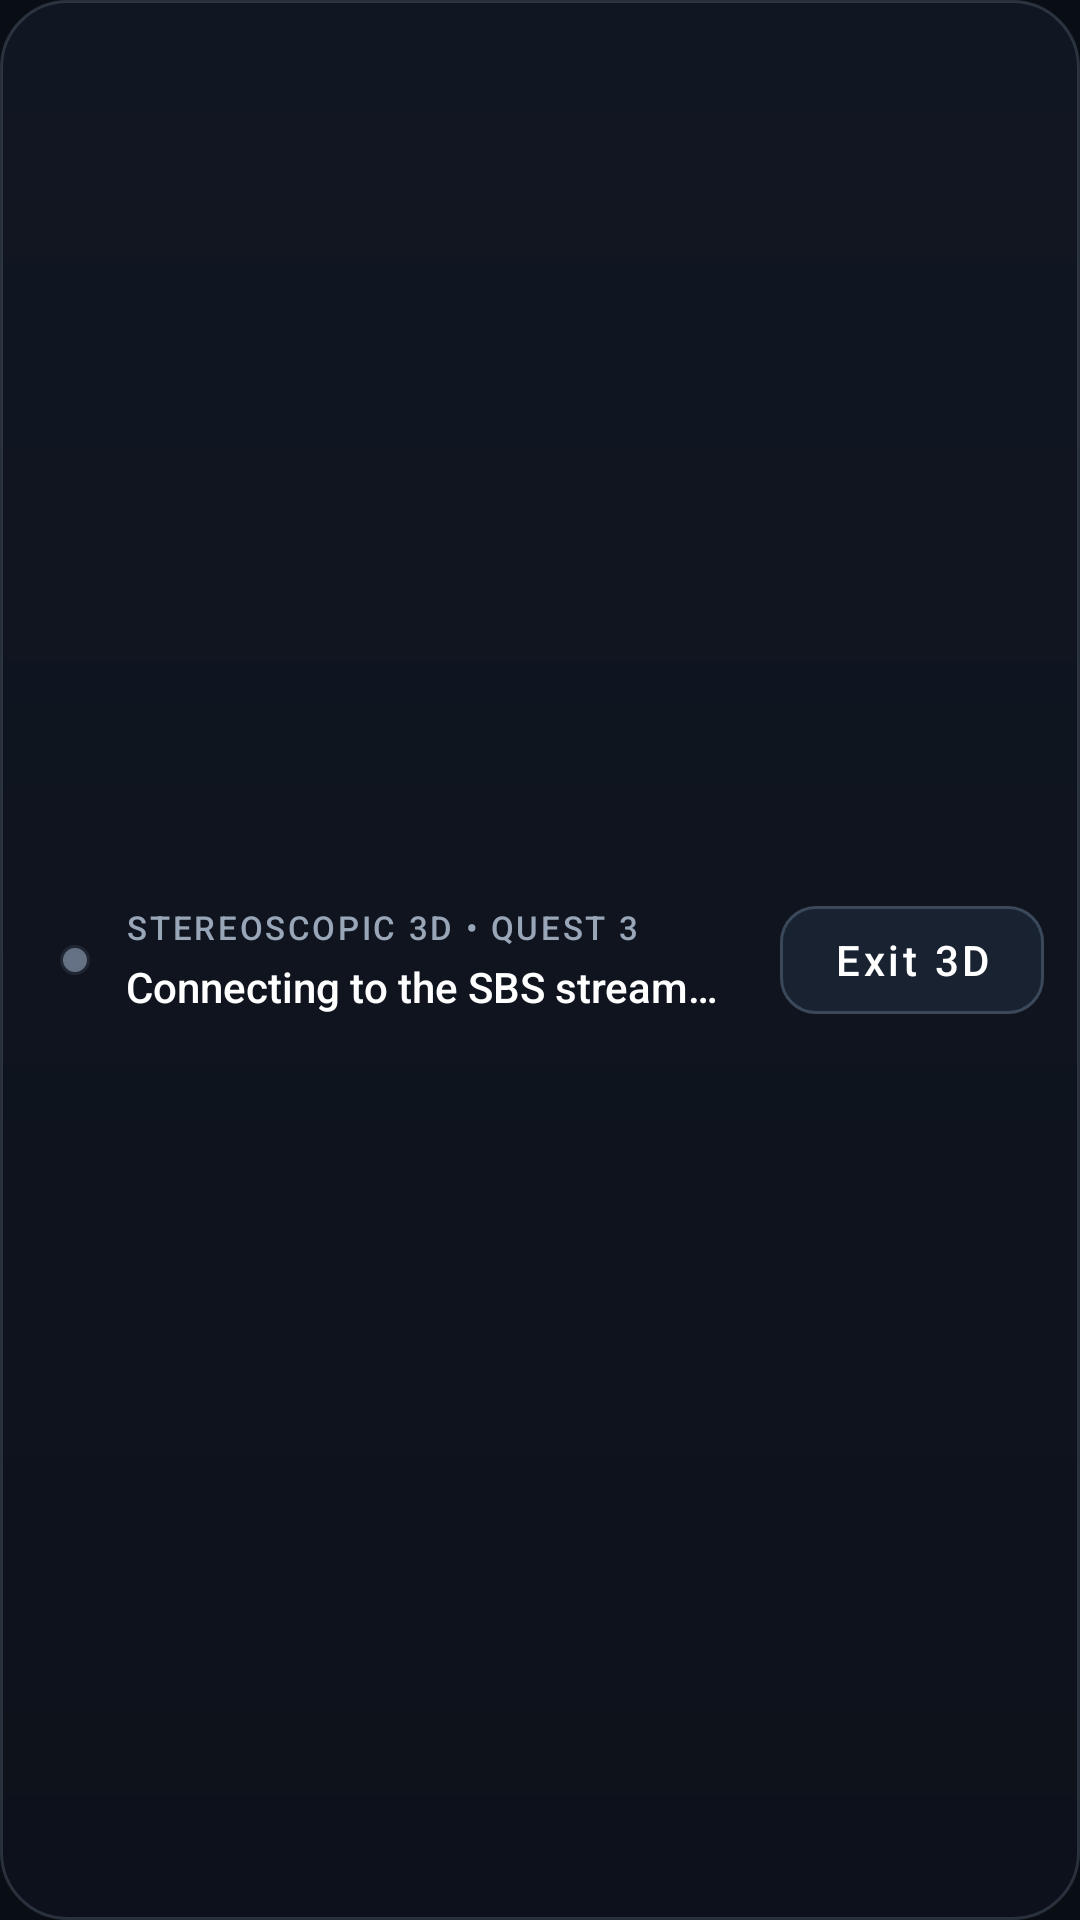

Where to tap for icons on this 1080*1920 app screen, as (x,y):
status dot off: (75,960)
